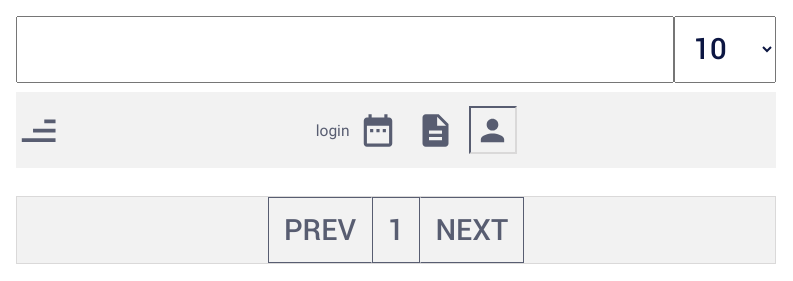
Test case: initial sorting attribute is login and sorting attribute is working
expect the text with test id "nav-sortingAttribute" reads "login": met, box [316,122,350,140]
Step 1. Click the picture with test id "nav-sortByDateSwitch" → point(378, 130), box [354,106,402,154]
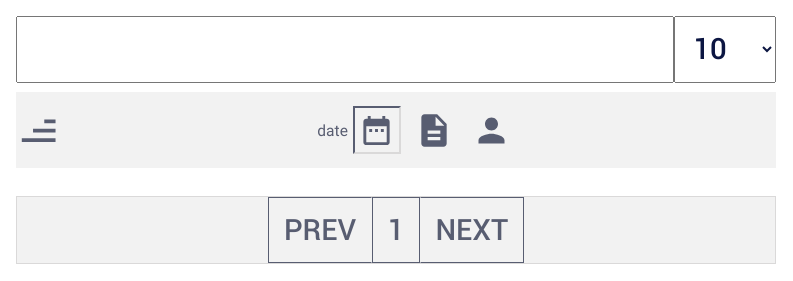
expect the text with test id "nav-sortingAttribute" reads "date": met, box [317,122,348,140]
Step 2. Click the picture with test id "nav-sortByDescriptionSwitch" → point(434, 130), box [410,106,458,154]
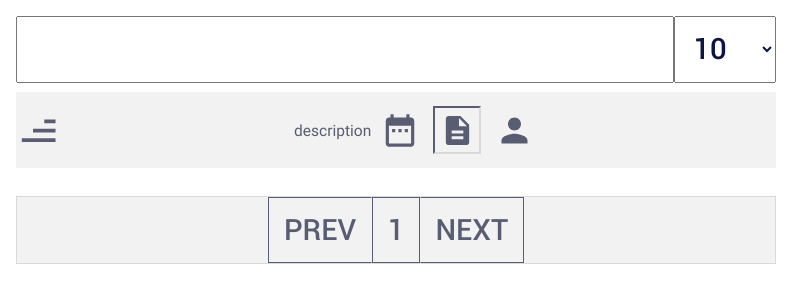
expect the text with test id "nav-sortingAttribute" reads "description": met, box [294,122,371,140]
Step 3. Click the picture with test id "nav-sortByLoginSwitch" → point(514, 130), box [490,106,538,154]
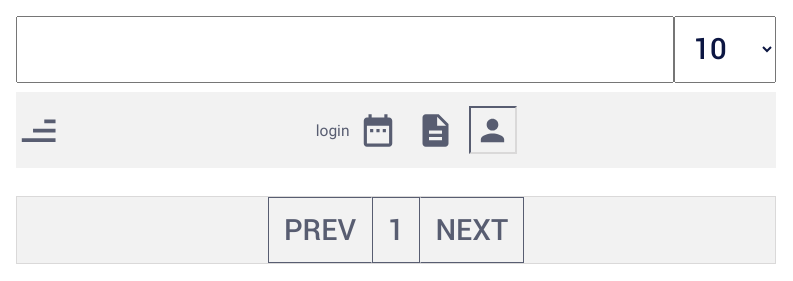
expect the text with test id "nav-sortingAttribute" reads "login": met, box [316,122,350,140]
